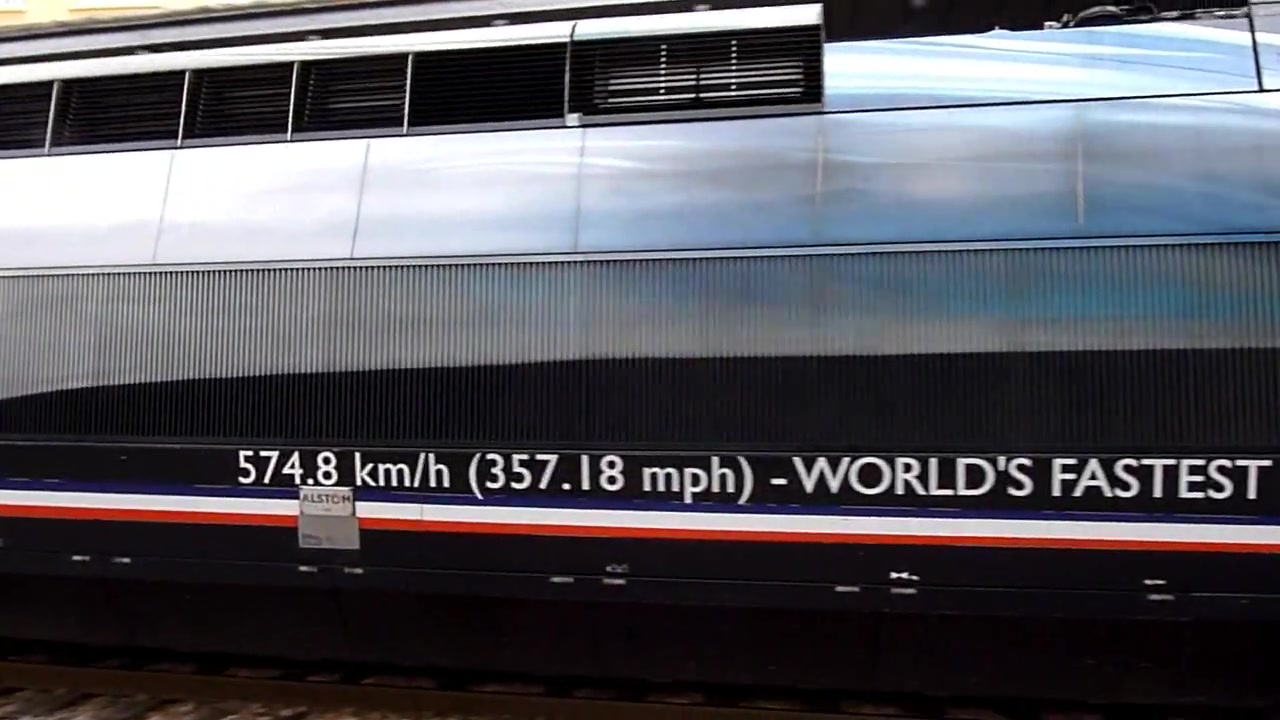train: (1, 1, 1280, 712)
